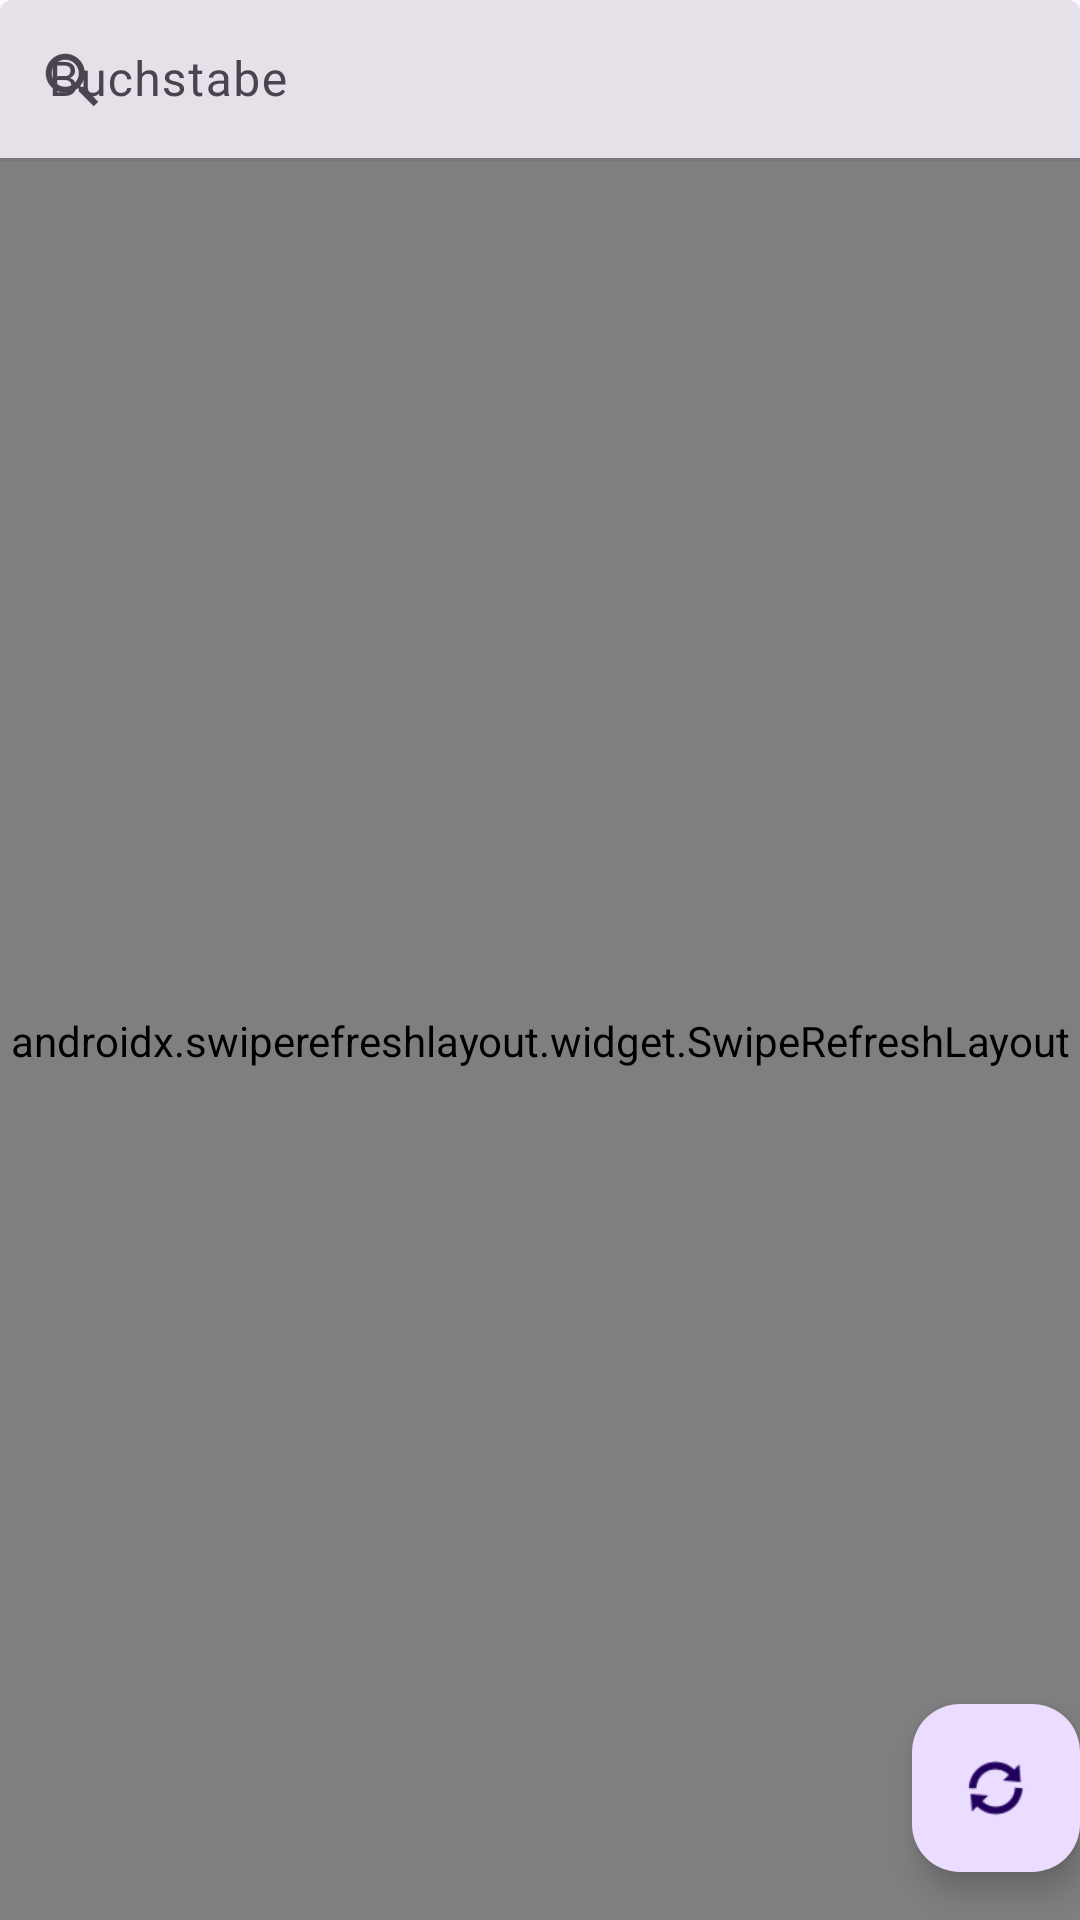

Named icons in this screenshot (1080x1920) and their bounding boxes, (x1, y1, x2, y2):
Another Letter: (912, 1704, 1080, 1872)
